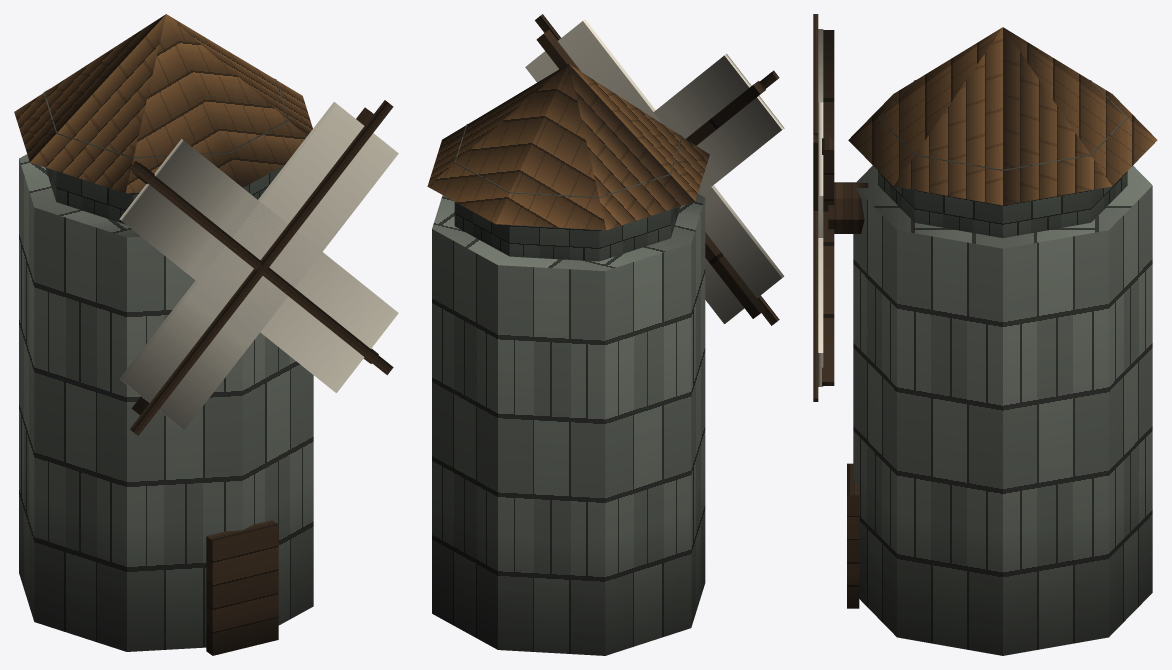
File: windmill.glb
3 views of the same model, side by side, from view 1: azimuth 30°, elevation 25°; view 2: azimuth 150°, elevation 25°; view 3: azimuth 270°, elevation 25° (orthographic). The views are drawn at different scales.
Parts seen in each view (by area): view 1: windmill; view 2: windmill; view 3: windmill.
Part boxes in pixels (left/top/right/bottom): windmill: left=14, top=14, right=398, bottom=655; windmill: left=427, top=14, right=784, bottom=655; windmill: left=813, top=14, right=1157, bottom=655.
Size of the model in its own units: 1.26 by 2.5 by 1.38.
Materials: 1 (1 with a texture image).
